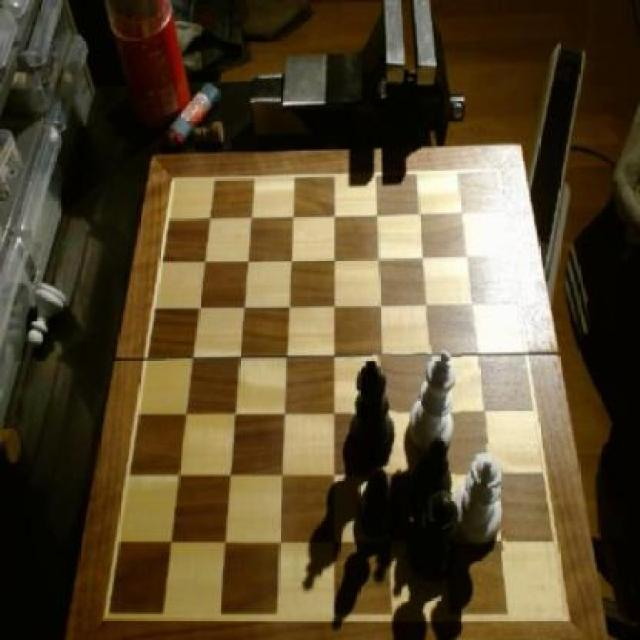bishop: (362, 468, 406, 555), (409, 437, 452, 507)
black-bishop: (349, 356, 398, 470)
black-pawn: (406, 491, 459, 579)
white-bishop: (411, 346, 460, 454)
white-pawn: (457, 444, 506, 554)
